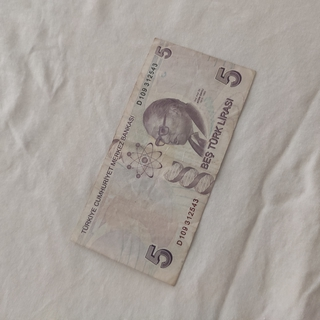5TLBack: (68, 35, 257, 287)
